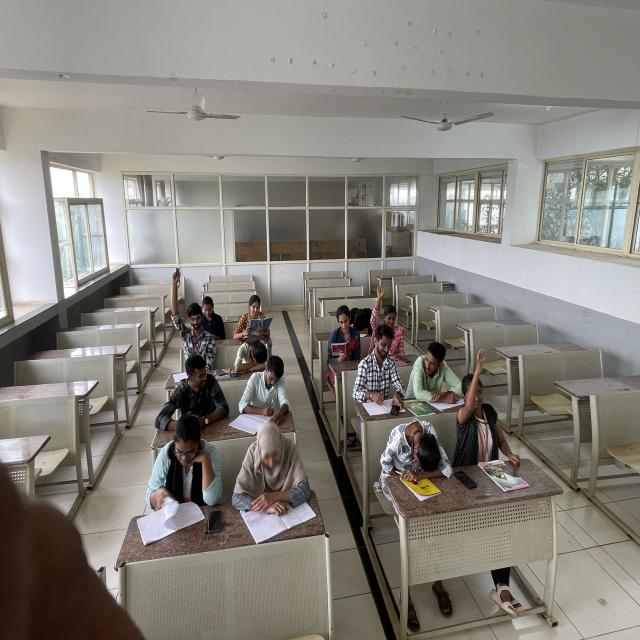Hand Rising: (452, 348, 512, 453), (164, 266, 213, 357), (370, 280, 412, 341)
Reading: (137, 420, 229, 530), (322, 306, 362, 360), (231, 293, 277, 339)
Sleeping: (376, 414, 451, 476), (230, 338, 277, 378), (346, 304, 376, 338)
Using Phone: (357, 329, 403, 397)
Writing: (234, 358, 291, 430), (410, 336, 467, 406)
